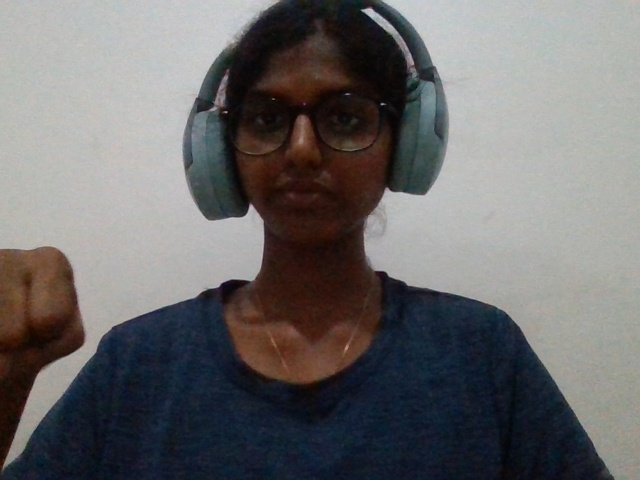Yes: (1, 231, 97, 403)
